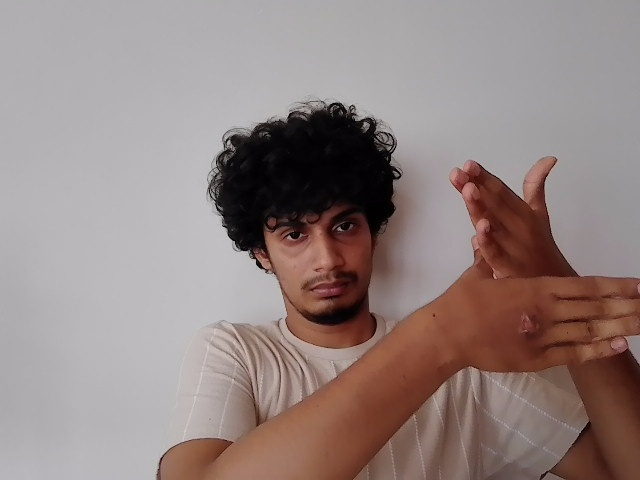busy: (448, 151, 640, 372)
